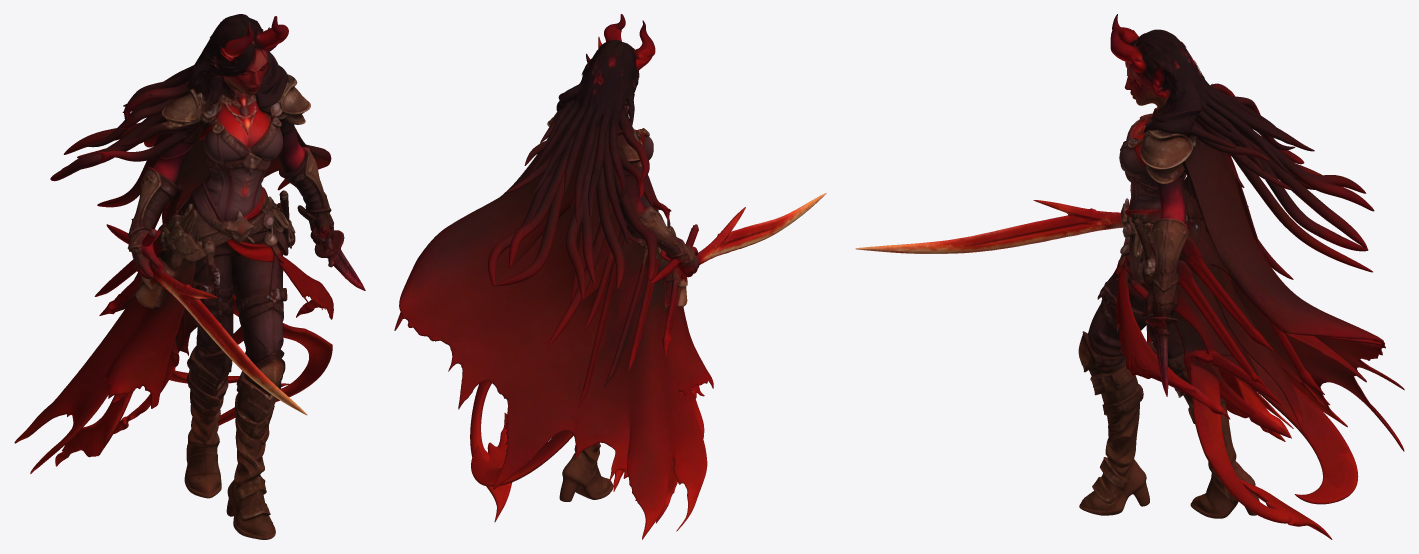
The model's file is tiefling_rogue_full_female_01.glb.
The picture shows the model from 3 angles, left to right: view 1: azimuth 30°, elevation 25°; view 2: azimuth 150°, elevation 25°; view 3: azimuth 270°, elevation 25°; orthographic projection. The views are drawn at different scales.
Parts seen in each view (by area): view 1: material; view 2: material; view 3: material.
Part boxes in pixels (bbox=[...]): material: bbox=[14, 14, 365, 539]; material: bbox=[394, 14, 826, 539]; material: bbox=[855, 14, 1404, 539].
Size of the model in its own units: 0.5678 by 0.9163 by 0.9165.
1 material, 1 textured.
